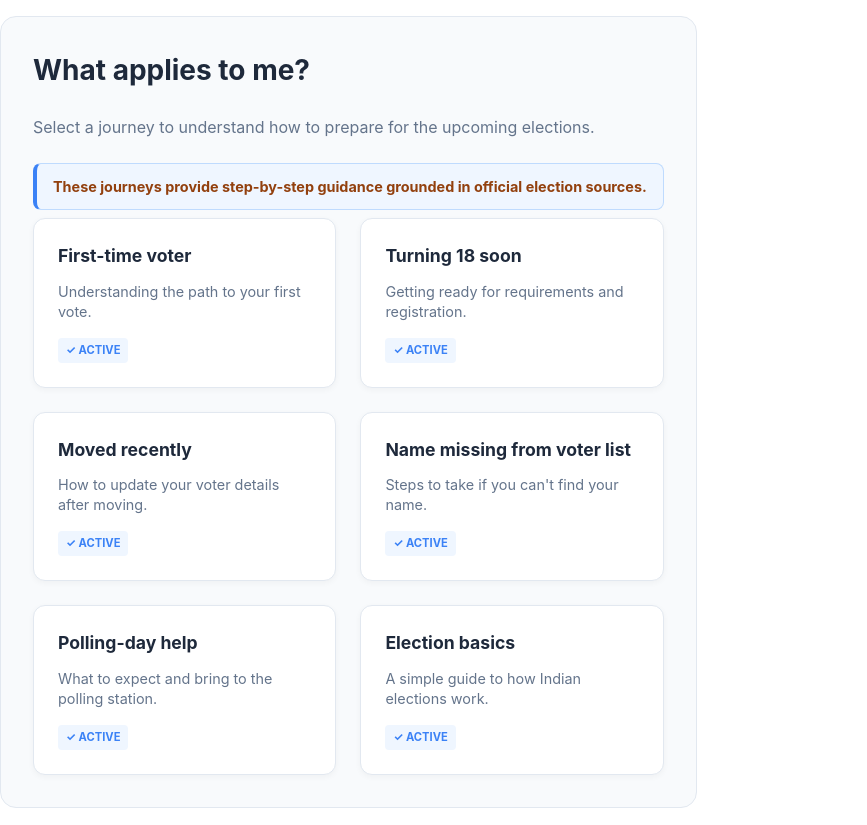
Test: GuidedJourneyChooser › shows generic placeholder for other journeys
// Select a journey other than Turning 18 soon
Click the button "First-time voter". click: (185, 303)
box: [58, 243, 311, 363]
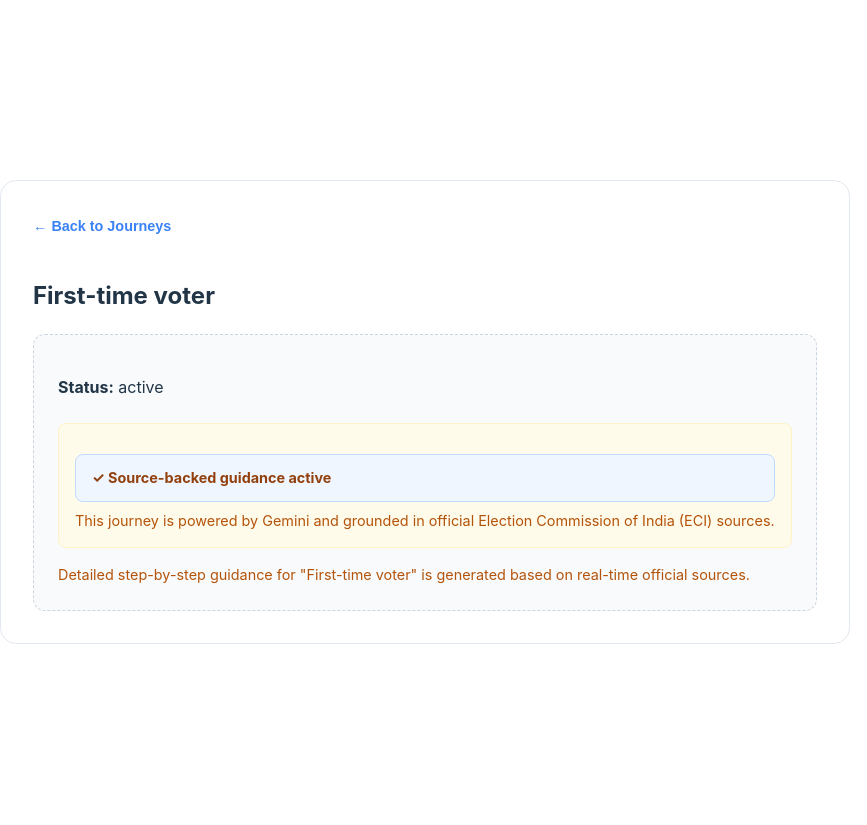
Now the heading "First-time voter" is shown, box [33, 281, 215, 310]
